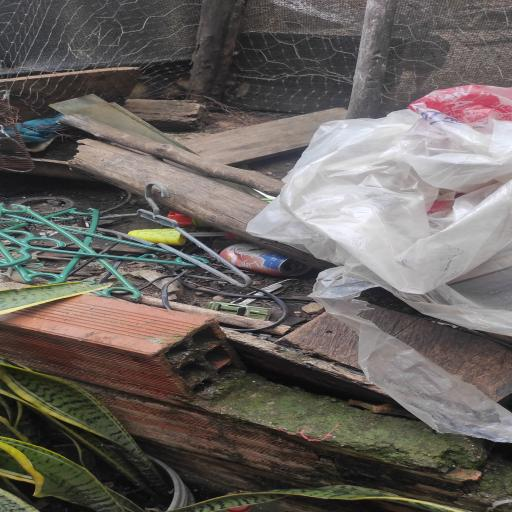Carrito: (207, 301, 270, 320)
